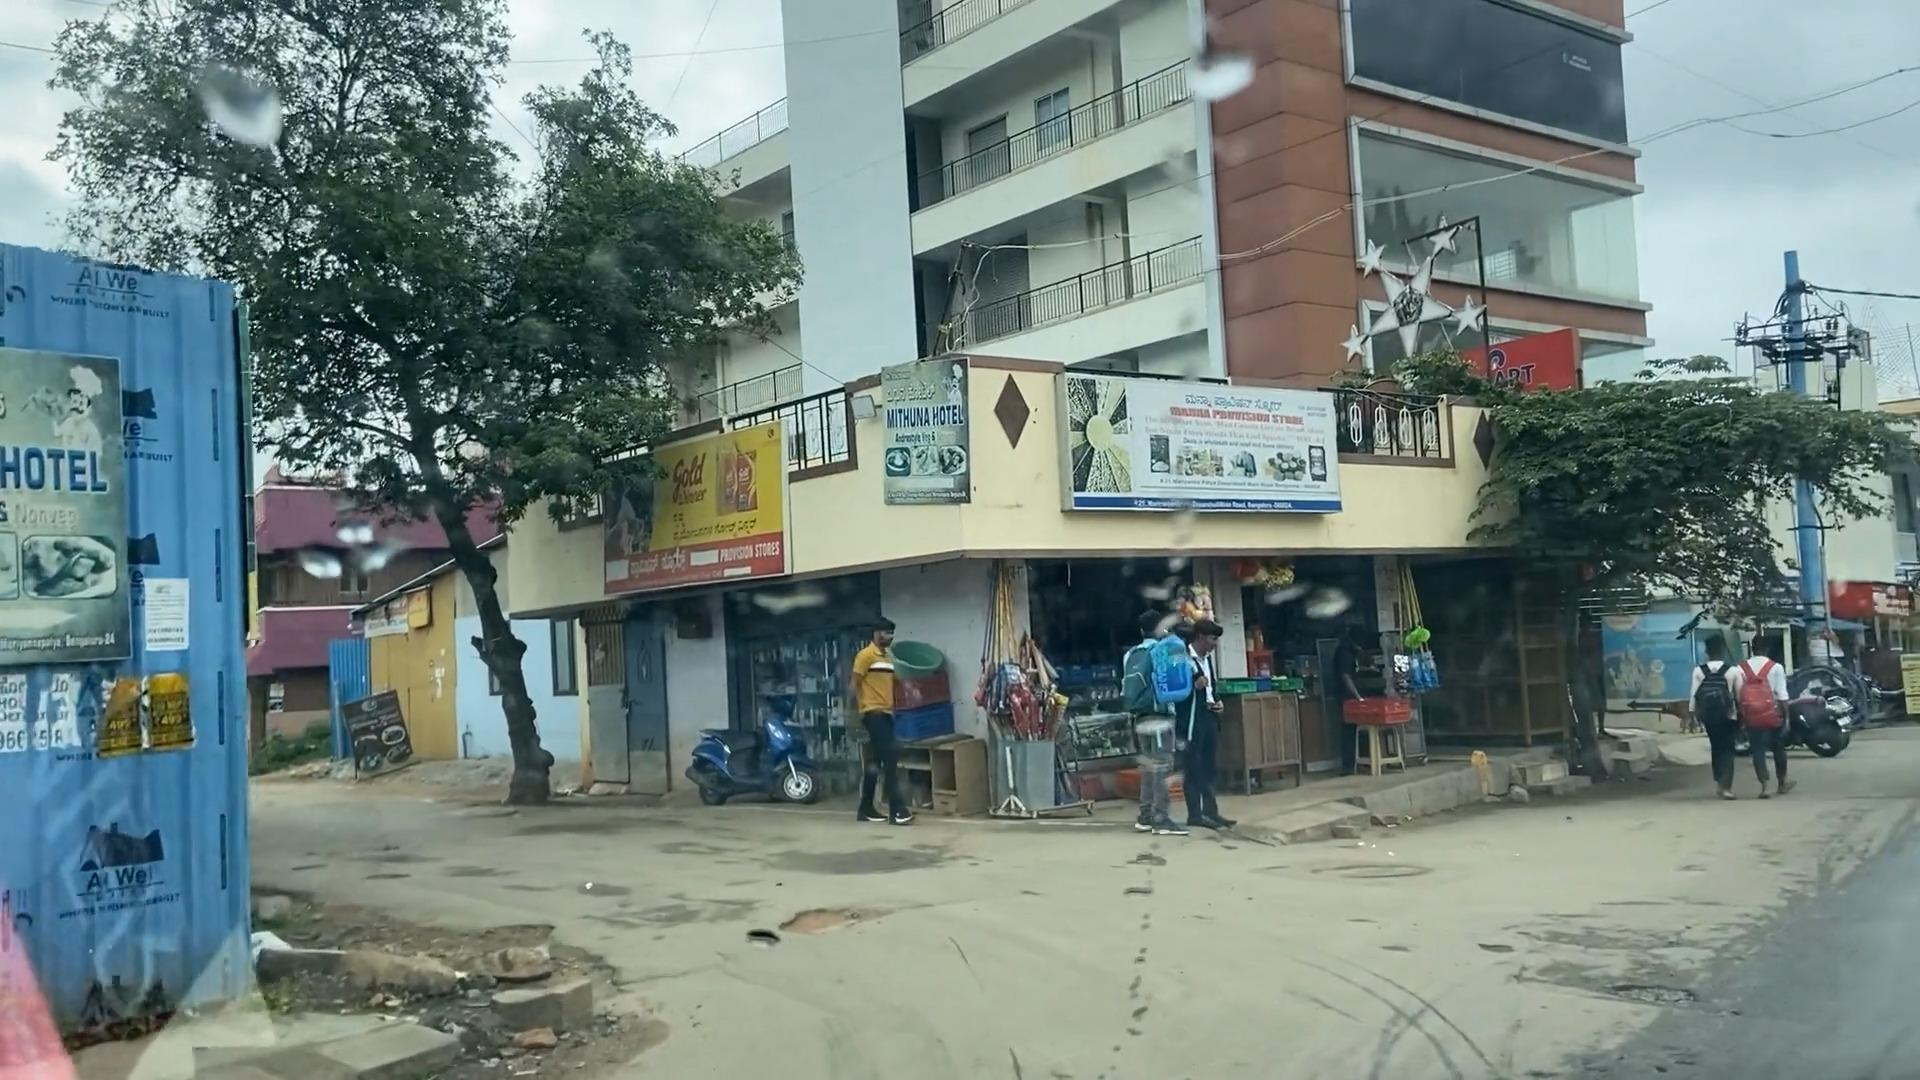RoadDamages: (447, 923, 665, 1080), (1523, 930, 1709, 1026), (766, 880, 898, 951)
